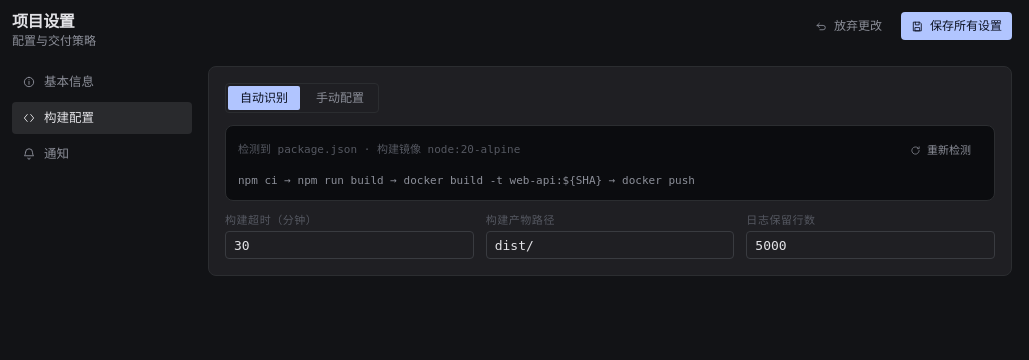
Test: ProjectSettingsView › 切到基本信息显示只读仓库地址与删除项目（带警告文案）
Click the button "基本信息" at (102, 82), box [12,66,192,98]
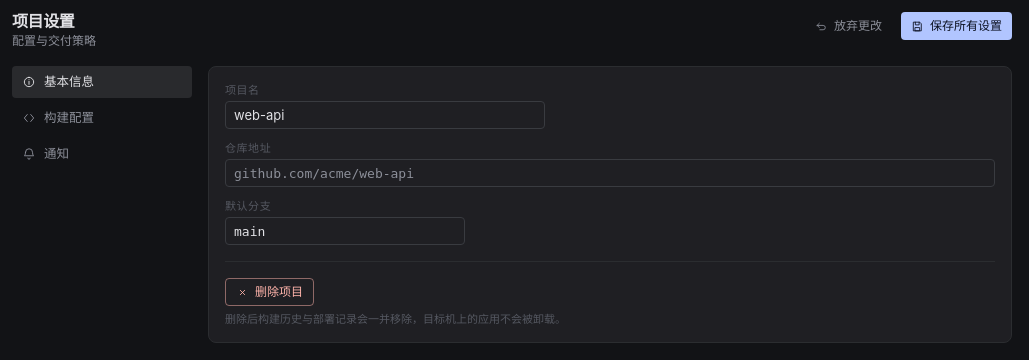
Expected: the field labelled "仓库地址" is shown, [225,159,995,187]
Expected: the text "删除项目" is shown, [225,278,314,306]
Expected: the text "目标机上的应用不会被卸载" is shown, [225,312,566,326]
